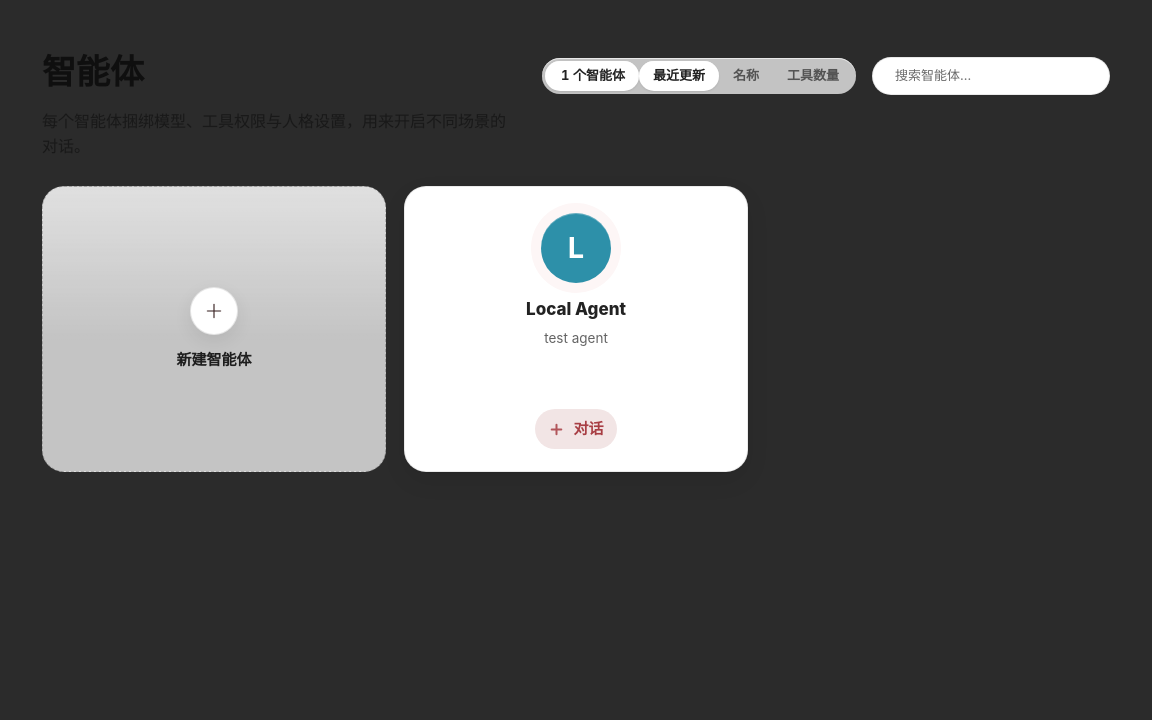
Scenario: AgentsPage — browse view › when no agents match the search, an empty-results CTA appears
Type "no-match-here" into the search field labelled "搜索智能体".
click(996, 76); type("no-match-here")  # box [895, 66, 1097, 86]
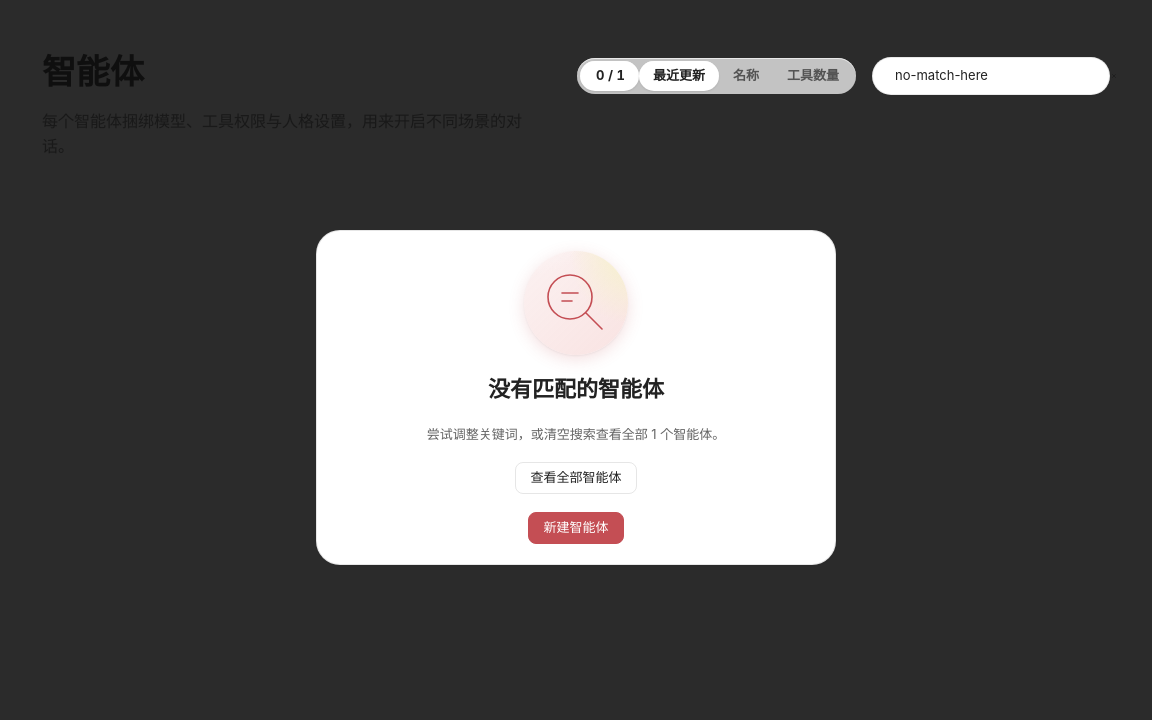
Now the heading "没有匹配的智能体" is shown, box [488, 373, 664, 406]
Click the button "新建智能体".
click(576, 528)  # box [528, 512, 624, 544]
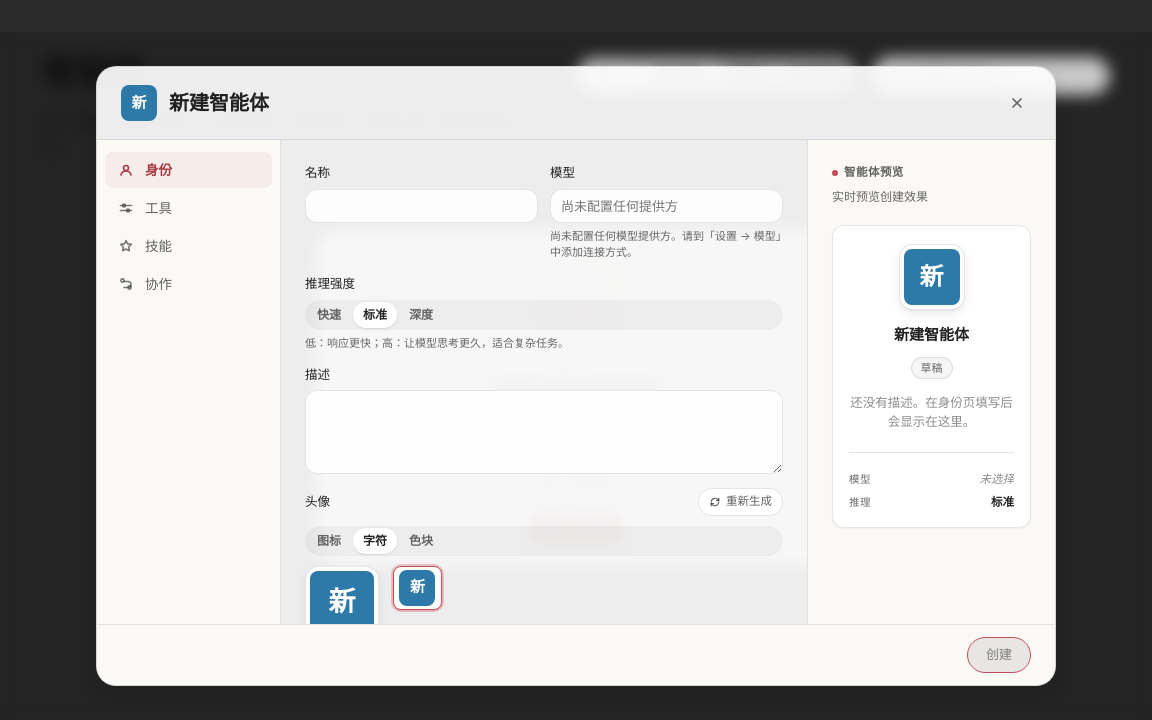
Now the 1st heading "新建智能体" is shown, box [169, 88, 269, 118]
Click the button named "关闭".
click(1017, 103)  # box [1003, 89, 1031, 117]
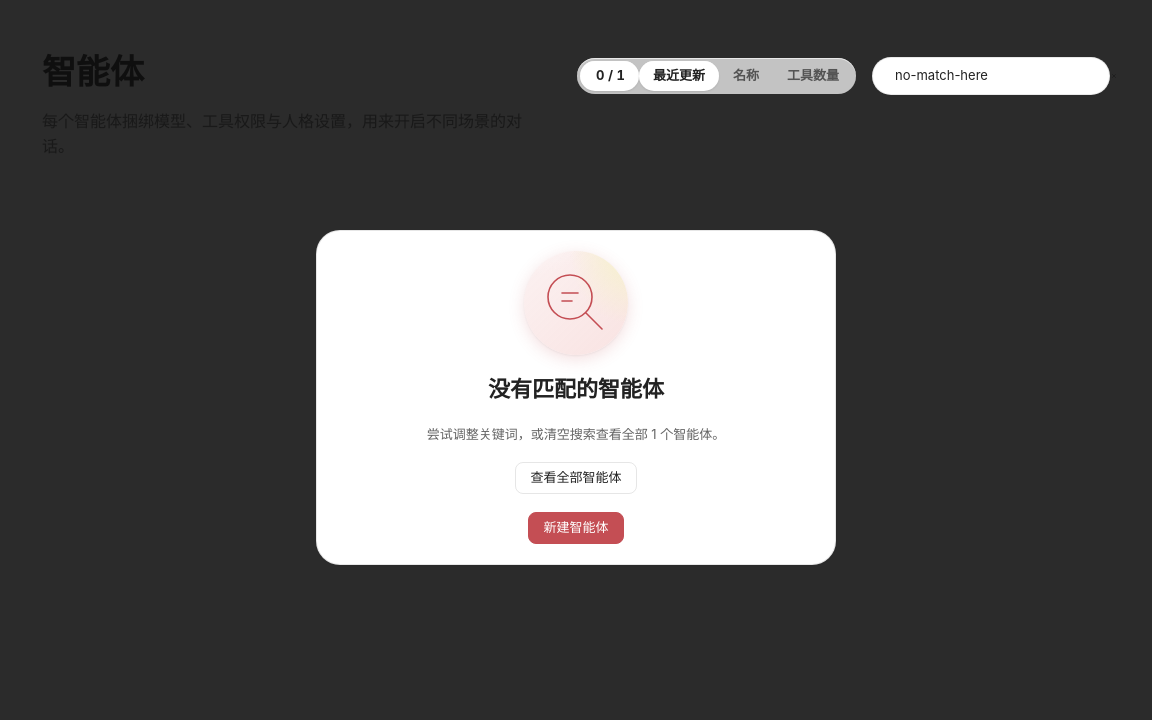
Click the button "查看全部智能体".
click(576, 478)  # box [516, 462, 636, 494]
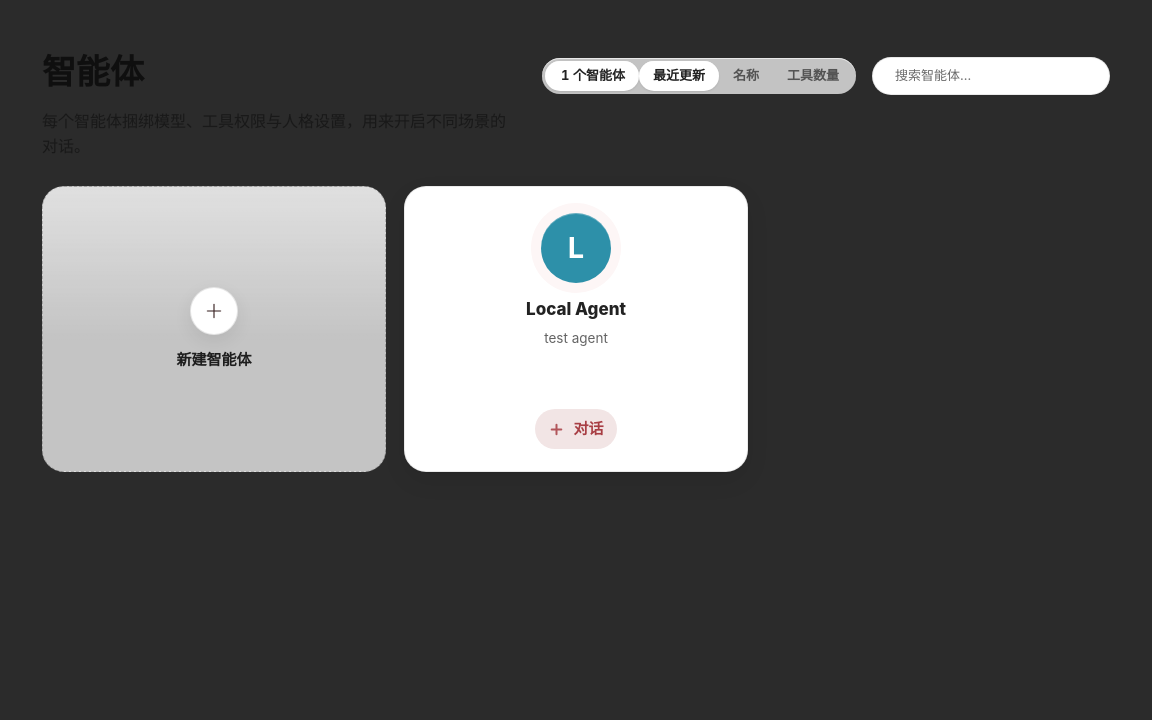
Now the heading "没有匹配的智能体" is gone
